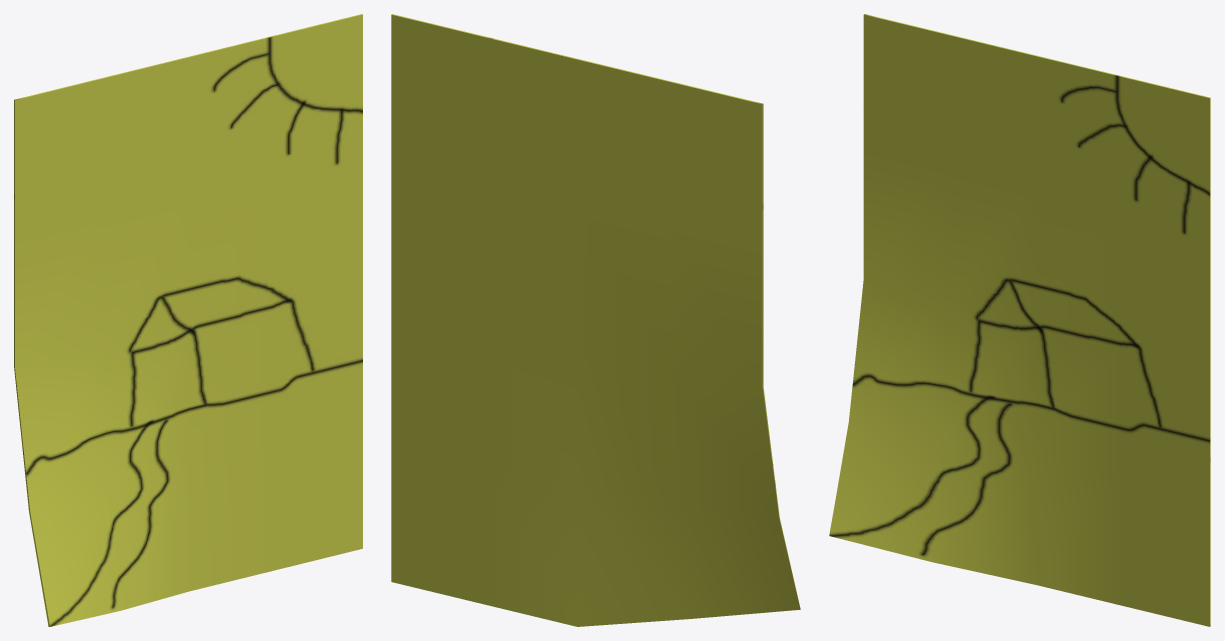
Rendered from whiteboardArt.fbx.
3 views of the same model, side by side, from view 1: azimuth 30°, elevation 25°; view 2: azimuth 150°, elevation 25°; view 3: azimuth 330°, elevation 25° (orthographic). The views are drawn at different scales.
Parts seen in each view (by area): view 1: art; view 2: art; view 3: art.
Part boxes in pixels (bbox=[...]): art: bbox=[14, 14, 362, 626]; art: bbox=[391, 14, 800, 626]; art: bbox=[829, 14, 1210, 626].
Bounding box in the file's own units: 39.19 × 57.24 × 7.12.
